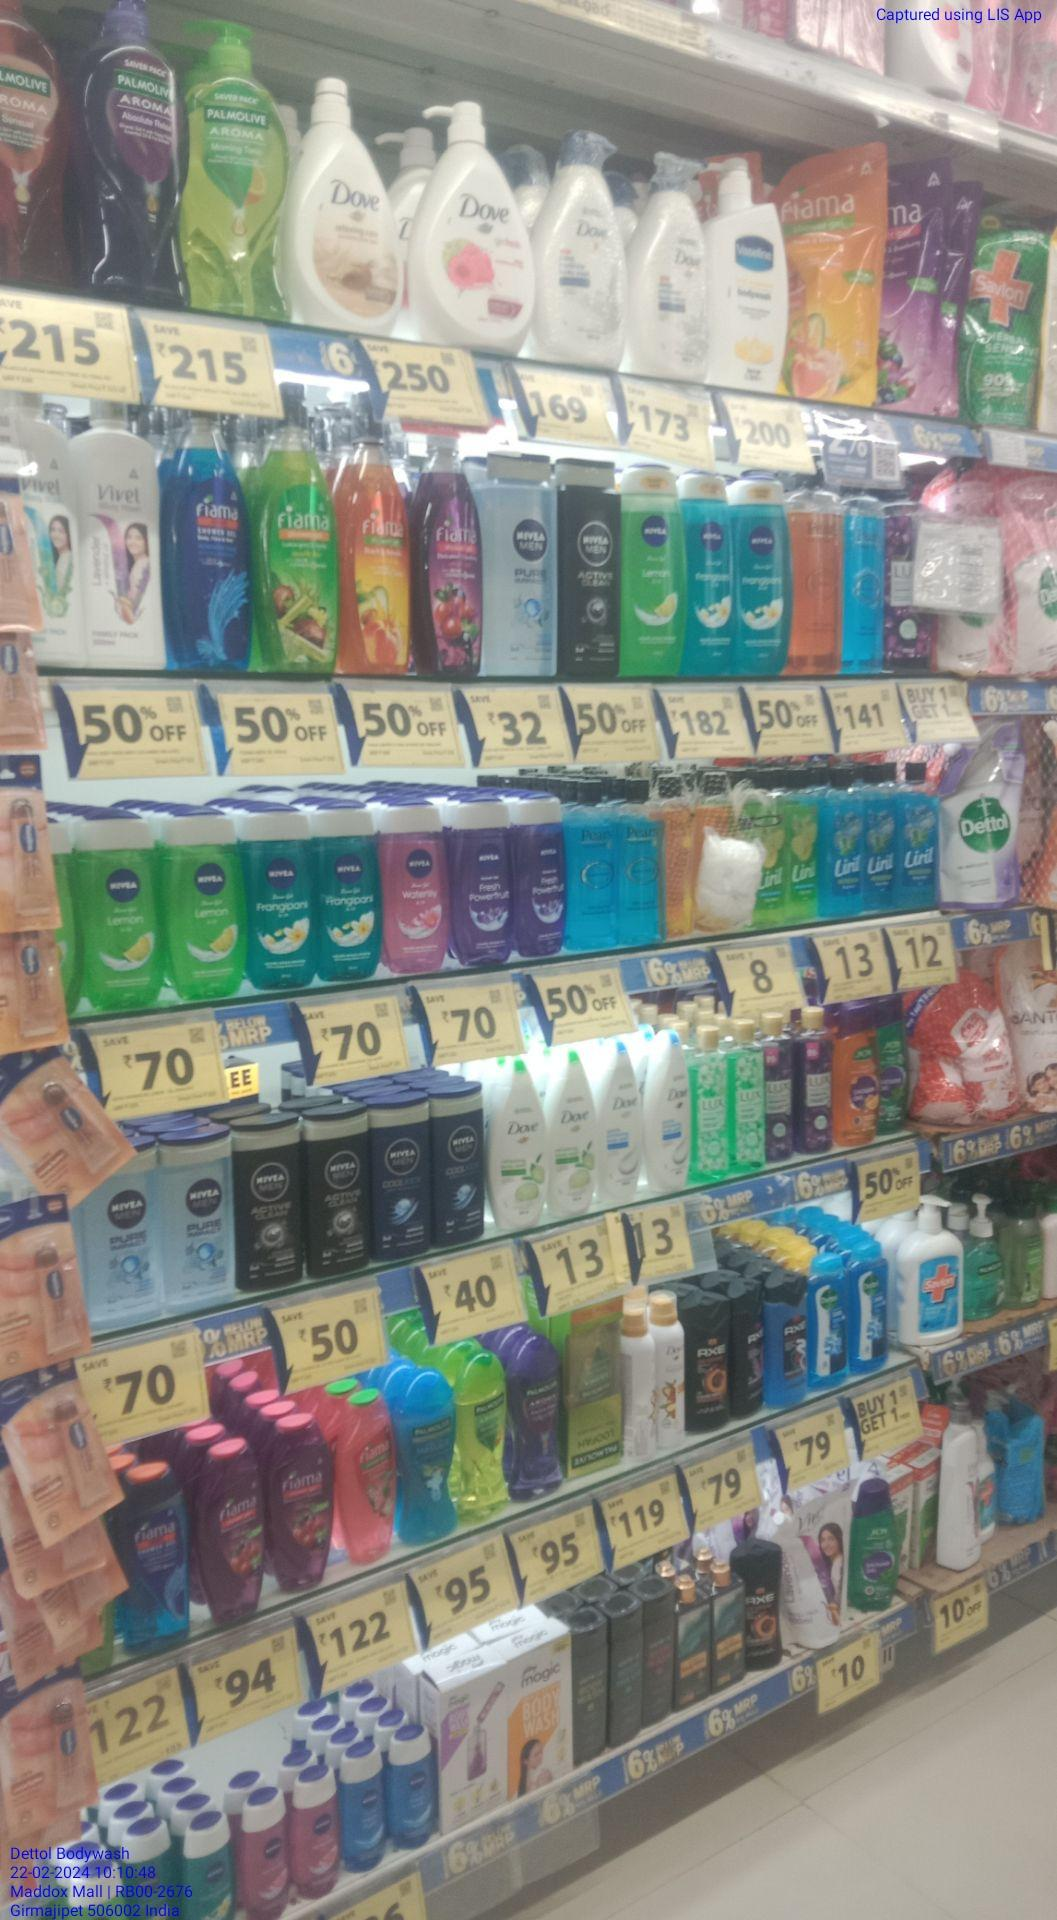Dettol_Bodywash_Cool: (808, 1251, 847, 1389), (849, 1244, 889, 1372)
Dove_Gentle_Exfoliating_Body_Wash_250ML: (596, 1040, 643, 1201), (644, 1040, 691, 1191)
Dove_Refreshing_Body_Wash_250ML: (484, 1057, 549, 1229), (552, 1048, 595, 1217)
Fiama_Shower_Gel_Patchouli_and_Macadamia_250ML: (335, 1398, 393, 1565)
Joy_Shower_Gel_Mandarin_and_Lemongrass_250ML: (838, 1002, 879, 1147)
Joy_Shower_Gel_Mint_and_Eucalyptus_250ML: (853, 1479, 898, 1611), (881, 996, 909, 1135)
Liril_Cooling_Mint_Body_Wash_250ML: (824, 767, 864, 916), (901, 760, 940, 909), (867, 767, 897, 912)
Liril_Lime_and_Tea_Tree_Oil_Body_Wash_250ML: (755, 769, 790, 926), (794, 769, 819, 923)
Lux_Black_Orchid_Scent_and_Juniper_Oil_Body_Wash_245ML: (797, 1010, 834, 1152), (768, 1015, 794, 1161)
Lux_Body_Wash_Skin_Detox_Freesia_Scent_and_Alove_Vera_245ML: (694, 1032, 730, 1182), (733, 1024, 765, 1173)
Nivea_Shower_Gel_Frangipani_and_Oil_250ML: (249, 811, 319, 989), (735, 476, 786, 676), (324, 808, 380, 979), (690, 470, 732, 676), (185, 1811, 233, 1920)
Nivea_Shower_Gel_Lemon_and_Oil_250ML: (78, 827, 163, 1010), (168, 810, 246, 998), (622, 466, 687, 676)
Nivea_Shower_Gel_Waterlily_and_Oil_250ML: (384, 804, 449, 972), (452, 803, 513, 967), (517, 801, 568, 955), (243, 1794, 290, 1920), (295, 1770, 338, 1895)
Palmolive_Aroma_Moments_Feel_The_Massage_Shower_Gel_250ML: (398, 1375, 456, 1536)
Palmolive_Aroma_Morning_Tonic_Shower_Gel_250ML: (458, 1352, 509, 1518)
Palmolive_Aroma_Relax_250ML: (513, 1341, 562, 1497)
Pears_Pure_Glycerin_and_Mint_Extracts_Body_Wash_250ML: (571, 785, 618, 953), (622, 782, 661, 948)
